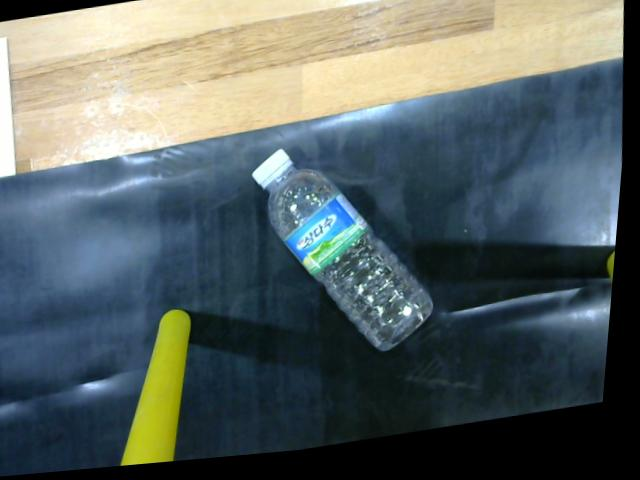bottle: (244, 149, 444, 362)
